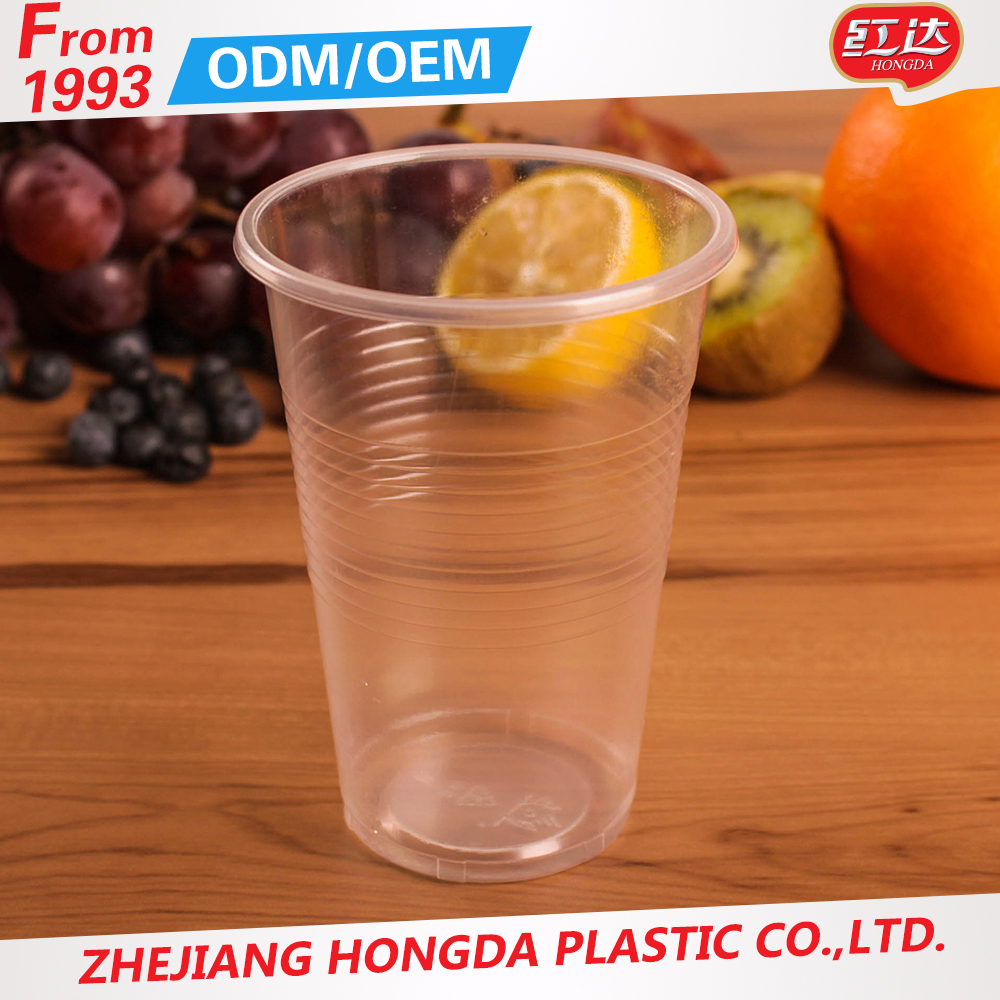plastic_bottle: (223, 131, 745, 894)
